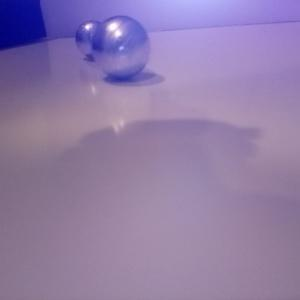alive_ball: (91, 16, 150, 80), (76, 20, 107, 57)
